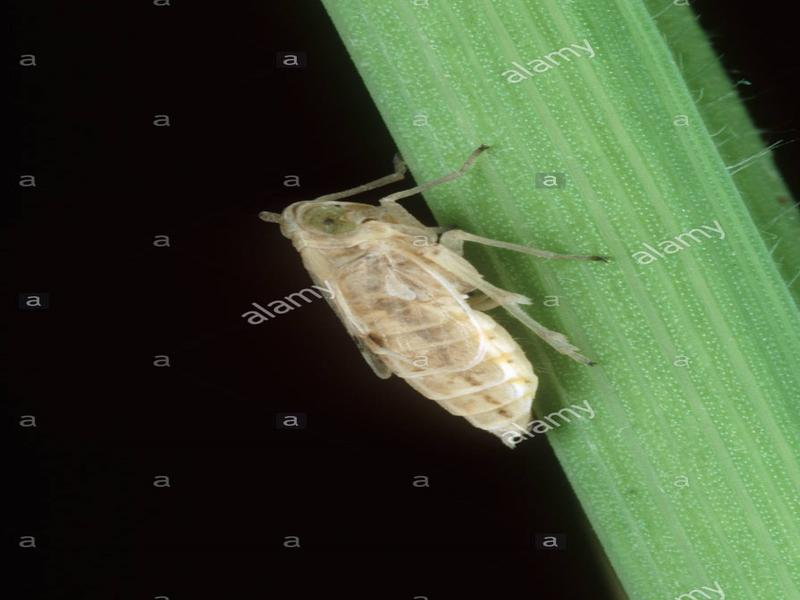White_backed_plant_hopper: (263, 184, 553, 457)
